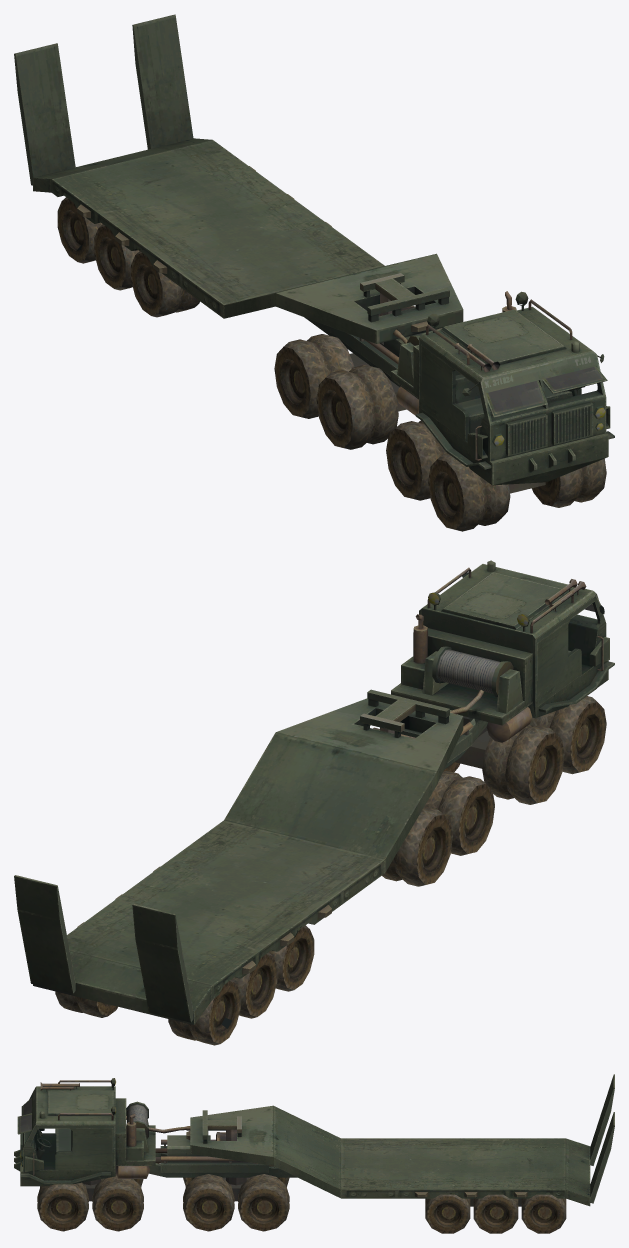
The picture shows the model from 3 angles, top to bottom: view 1: azimuth 30°, elevation 25°; view 2: azimuth 150°, elevation 25°; view 3: azimuth 270°, elevation 25°; orthographic projection. The views are drawn at different scales.
Visible parts, largest first — view 1: VEHICLE_Army Truck; view 2: VEHICLE_Army Truck; view 3: VEHICLE_Army Truck.
Part boxes in pixels (x1,y1,x2,y2): VEHICLE_Army Truck: [14, 14, 614, 531]; VEHICLE_Army Truck: [14, 560, 614, 1045]; VEHICLE_Army Truck: [14, 1074, 614, 1233].
Bounding box in the file's own units: 1.49 × 1.5 × 6.87.
Materials: 1 (1 with a texture image).
